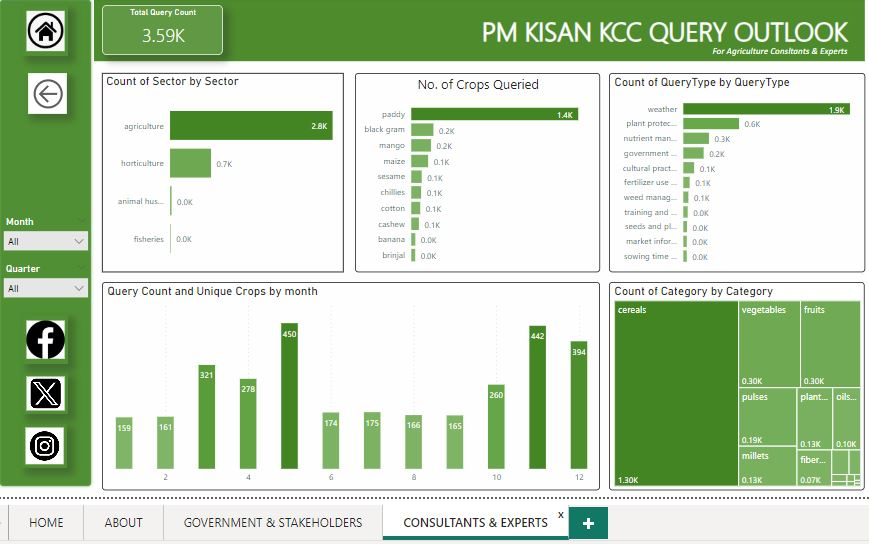

The dashboard page shown, as its layout file describes it:
{"tool":"powerbi","page":{"name":"CONSULTANTS & EXPERTS","canvas":[1280,720],"ordinal":3},"visuals":[{"type":"barChart","fields":{"Category":["DOWNSTREAM_READY_EXTRACTS.Sector"],"Y":["CountNonNull(DOWNSTREAM_READY_EXTRACTS.Sector)"]},"box":[161.3,109.4,348.5,286.6],"z":0},{"type":"shape","box":[10.1,0,139.7,708.5],"z":1000},{"type":"textbox","box":[149.8,1.4,1110.2,90.7],"z":2000},{"type":"treemap","fields":{"Group":["DOWNSTREAM_READY_EXTRACTS.Category"],"Values":["CountNonNull(DOWNSTREAM_READY_EXTRACTS.Category)"]},"box":[891.7,410,368.3,300],"z":3000},{"type":"barChart","title":"No. of Crops Queried","fields":{"Category":["DOWNSTREAM_READY_EXTRACTS.Crops"],"Y":["CountNonNull(DOWNSTREAM_READY_EXTRACTS.Crops)"]},"box":[525.6,109.4,352.8,286.6],"z":4000},{"type":"barChart","fields":{"Y":["CountNonNull(DOWNSTREAM_READY_EXTRACTS.QueryType)"],"Category":["DOWNSTREAM_READY_EXTRACTS.QueryType"]},"box":[891.4,109.4,368.6,286.6],"z":5000},{"type":"ribbonChart","fields":{"Category":["DOWNSTREAM_READY_EXTRACTS.month"],"Y":["CountNonNull(DOWNSTREAM_READY_EXTRACTS.Sector)"]},"box":[161.7,410,716.7,300],"z":6000},{"type":"slicer","fields":{"Values":["DOWNSTREAM_READY_EXTRACTS.quarter"]},"box":[10.1,377.3,141.1,66.2],"z":7000},{"type":"slicer","fields":{"Values":["DOWNSTREAM_READY_EXTRACTS.month"]},"box":[10.1,309.6,141.1,67.7],"z":8000},{"type":"card","title":"Total Query Count","fields":{"Values":["CountNonNull(DOWNSTREAM_READY_EXTRACTS.Crops)"]},"box":[161.3,11.5,174.2,72],"z":9000},{"type":"image","box":[47.5,13,64.8,72],"z":10000},{"type":"image","box":[47.5,541.4,64.8,59],"z":11000},{"type":"image","box":[46.1,614.9,64.8,63.4],"z":12000},{"type":"textbox","box":[938.9,63.4,301,28.8],"z":13000},{"type":"image","box":[47.5,457.9,64.8,70.6],"z":14000},{"type":"actionButton","box":[54.7,109.4,56.2,59],"z":15000}]}

Visuals, with their boxes in screenshot pixels (x1, y1, x2, y2):
barChart - DOWNSTREAM_READY_EXTRACTS.Sector x CountNonNull(DOWNSTREAM_READY_EXTRACTS.Sector): pyautogui.locateOnScreen(98, 71, 340, 270)
shape: pyautogui.locateOnScreen(0, 0, 90, 487)
textbox: pyautogui.locateOnScreen(90, 0, 861, 59)
treemap - DOWNSTREAM_READY_EXTRACTS.Category x CountNonNull(DOWNSTREAM_READY_EXTRACTS.Category): pyautogui.locateOnScreen(605, 280, 861, 488)
"No. of Crops Queried" barChart: pyautogui.locateOnScreen(351, 71, 596, 270)
barChart - CountNonNull(DOWNSTREAM_READY_EXTRACTS.QueryType) x DOWNSTREAM_READY_EXTRACTS.QueryType: pyautogui.locateOnScreen(605, 71, 861, 270)
ribbonChart - DOWNSTREAM_READY_EXTRACTS.month x CountNonNull(DOWNSTREAM_READY_EXTRACTS.Sector): pyautogui.locateOnScreen(99, 280, 596, 488)
slicer - DOWNSTREAM_READY_EXTRACTS.quarter: pyautogui.locateOnScreen(0, 257, 91, 303)
slicer - DOWNSTREAM_READY_EXTRACTS.month: pyautogui.locateOnScreen(0, 210, 91, 257)
"Total Query Count" card: pyautogui.locateOnScreen(98, 3, 219, 53)
image: pyautogui.locateOnScreen(19, 4, 64, 54)
image: pyautogui.locateOnScreen(19, 371, 64, 412)
image: pyautogui.locateOnScreen(18, 422, 63, 466)
textbox: pyautogui.locateOnScreen(638, 39, 847, 59)
image: pyautogui.locateOnScreen(19, 313, 64, 362)
actionButton: pyautogui.locateOnScreen(24, 71, 63, 112)
